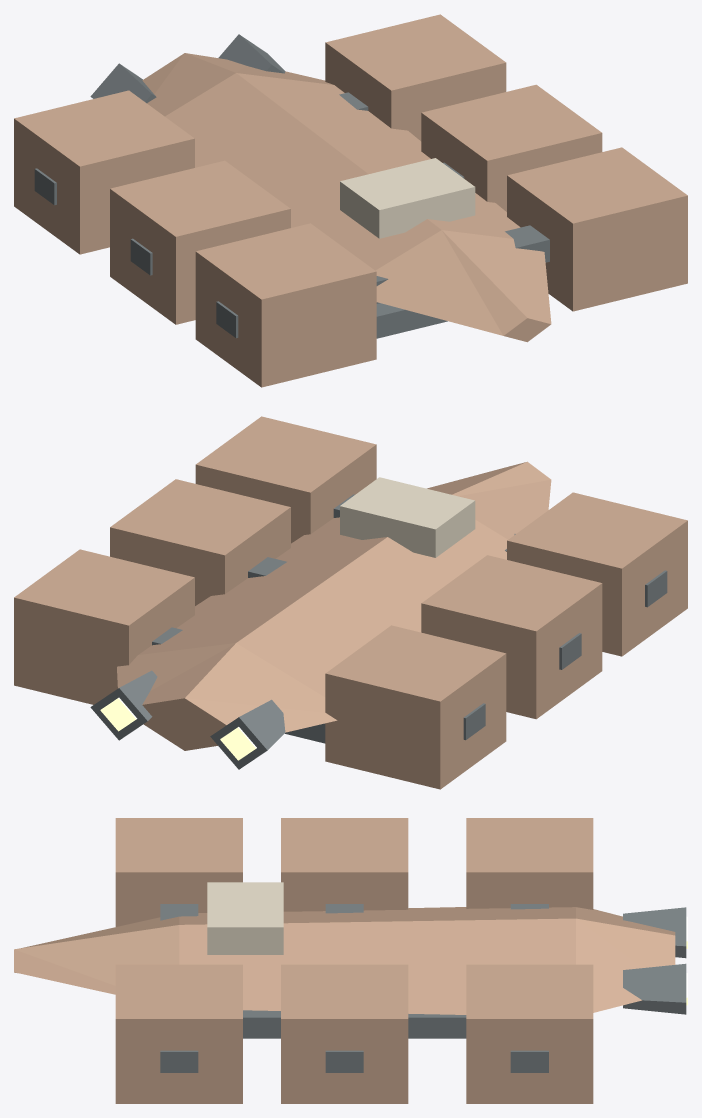
3 views of the same model, one above another, from view 1: azimuth 30°, elevation 25°; view 2: azimuth 150°, elevation 25°; view 3: azimuth 270°, elevation 25° (orthographic). The views are drawn at different scales.
Size of the model in its own units: 7.63 by 1.73 by 10.71.
